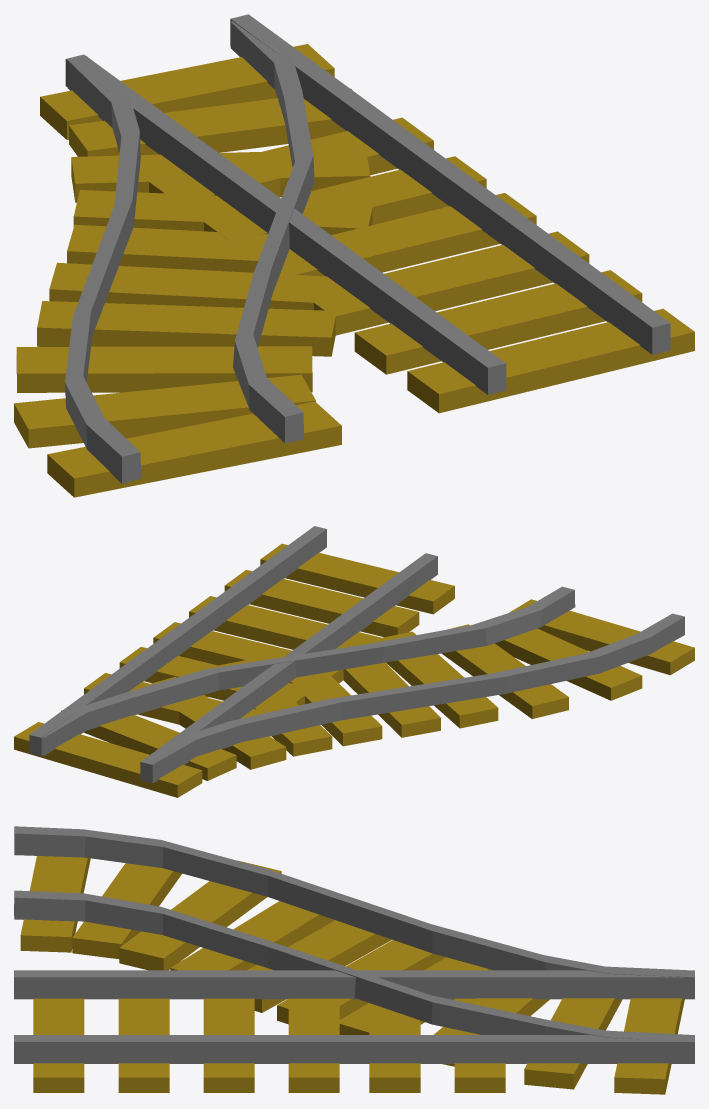
The model's file is S Bend Junction Right.fbx.
The picture shows the model from 3 angles, top to bottom: view 1: azimuth 30°, elevation 25°; view 2: azimuth 150°, elevation 25°; view 3: azimuth 270°, elevation 25°; orthographic projection. The views are drawn at different scales.
Visible parts, largest first — view 1: Cube.009, Track Left.005, Track Left.004, Cube.012, Cube.015, Cube.023, Cube.001, Cube.013, Cube.024, Cube.025, Cube.016, Cube.011 (+7 smaller); view 2: Cube.009, Track Left.005, Track Left.004, Cube.011, Cube.023, Cube.024, Cube.012, Cube.013, Cube.025, Cube.001, Cube.014, Cube.015 (+7 smaller); view 3: Cube.009, Track Left.005, Track Left.004, Cube.001, Cube.013, Cube.012, Cube.015, Cube.011, Cube.025, Cube.024, Cube.023, Cube.026 (+7 smaller).
Boxes of the visible parts, x1,y1,x2,y2 form: Cube.009: (65, 21, 314, 483); Track Left.005: (230, 14, 670, 354); Track Left.004: (65, 54, 506, 394); Cube.012: (47, 401, 341, 497); Cube.015: (37, 301, 335, 356); Cube.023: (407, 308, 694, 413); Cube.001: (16, 346, 312, 392); Cube.013: (14, 374, 315, 448); Cube.024: (354, 270, 642, 374); Cube.025: (302, 231, 589, 335); Cube.016: (49, 262, 338, 310); Cube.011: (40, 44, 334, 139); Cube.009: (43, 586, 684, 782); Track Left.005: (29, 526, 326, 756); Track Left.004: (140, 553, 437, 783); Cube.011: (14, 722, 202, 797); Cube.023: (260, 543, 454, 614); Cube.024: (224, 570, 419, 637); Cube.012: (509, 599, 694, 675); Cube.013: (495, 628, 642, 700); Cube.025: (189, 596, 382, 649); Cube.001: (441, 624, 568, 718); Cube.014: (61, 710, 236, 780); Cube.015: (378, 631, 498, 728); Cube.009: (14, 826, 690, 1039); Track Left.005: (14, 1035, 694, 1063); Track Left.004: (14, 970, 694, 999); Cube.001: (119, 860, 281, 970); Cube.013: (72, 863, 181, 959); Cube.012: (20, 856, 90, 952); Cube.015: (170, 901, 334, 970); Cube.011: (614, 998, 684, 1094); Cube.025: (203, 998, 254, 1092); Cube.024: (118, 998, 169, 1092); Cube.023: (33, 998, 84, 1092); Cube.026: (288, 998, 339, 1092).
Size of the model in its own units: 849 by 67.9 by 1000.
